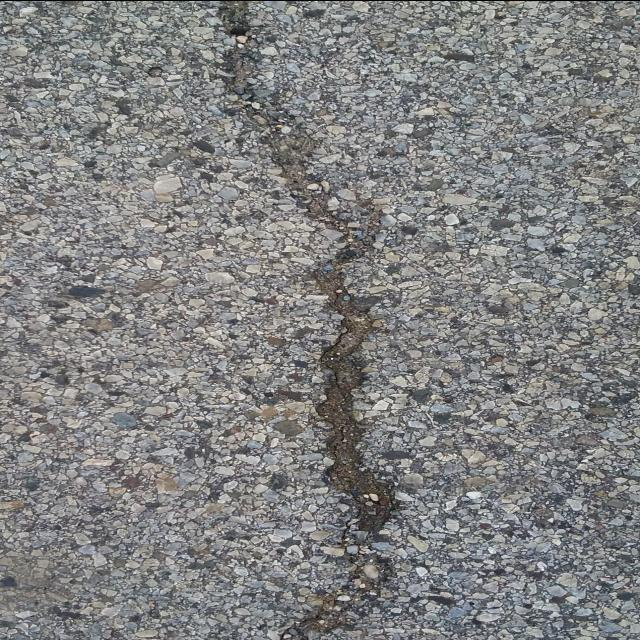Crack: (220, 0, 397, 640)
